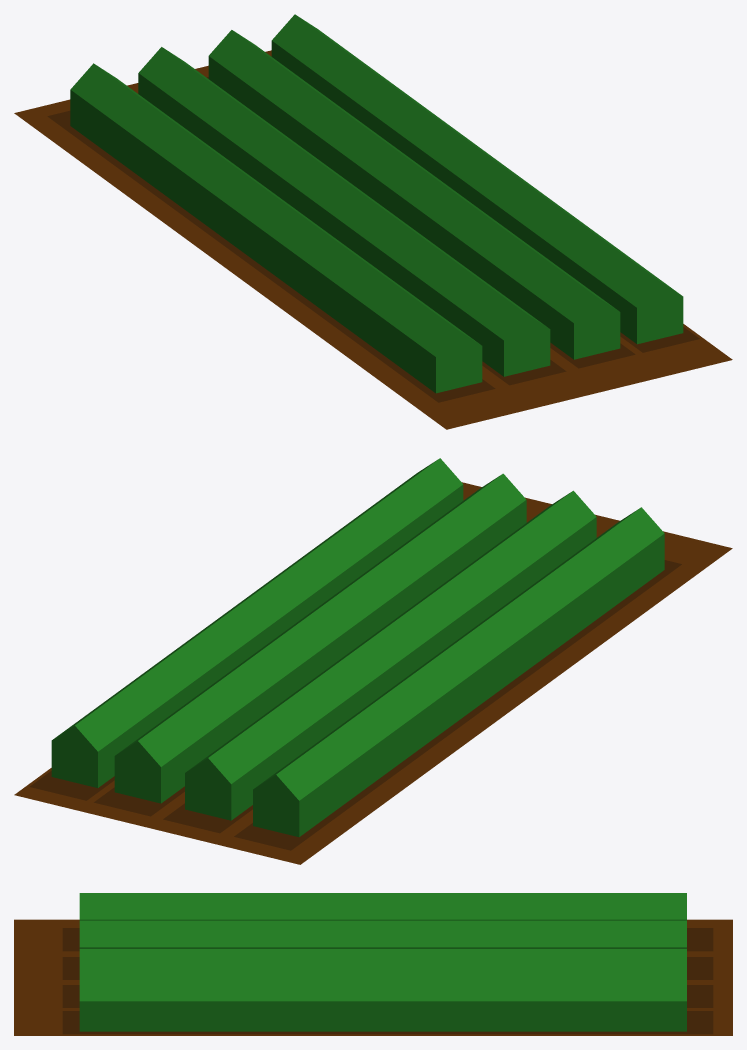
The model's file is GreenSmallVEG.fbx.
3 renders of one model, top to bottom at view 1: azimuth 30°, elevation 25°; view 2: azimuth 150°, elevation 25°; view 3: azimuth 270°, elevation 25°, orthographic. The views are drawn at different scales.
Parts seen in each view (by area): view 1: Plane; view 2: Plane; view 3: Plane.
Boxes of the visible parts, <box> form: Plane: <box>14,14,732,429</box>; Plane: <box>14,458,732,864</box>; Plane: <box>14,893,732,1035</box>.
Size of the model in its own units: 200 by 38.68 by 523.
